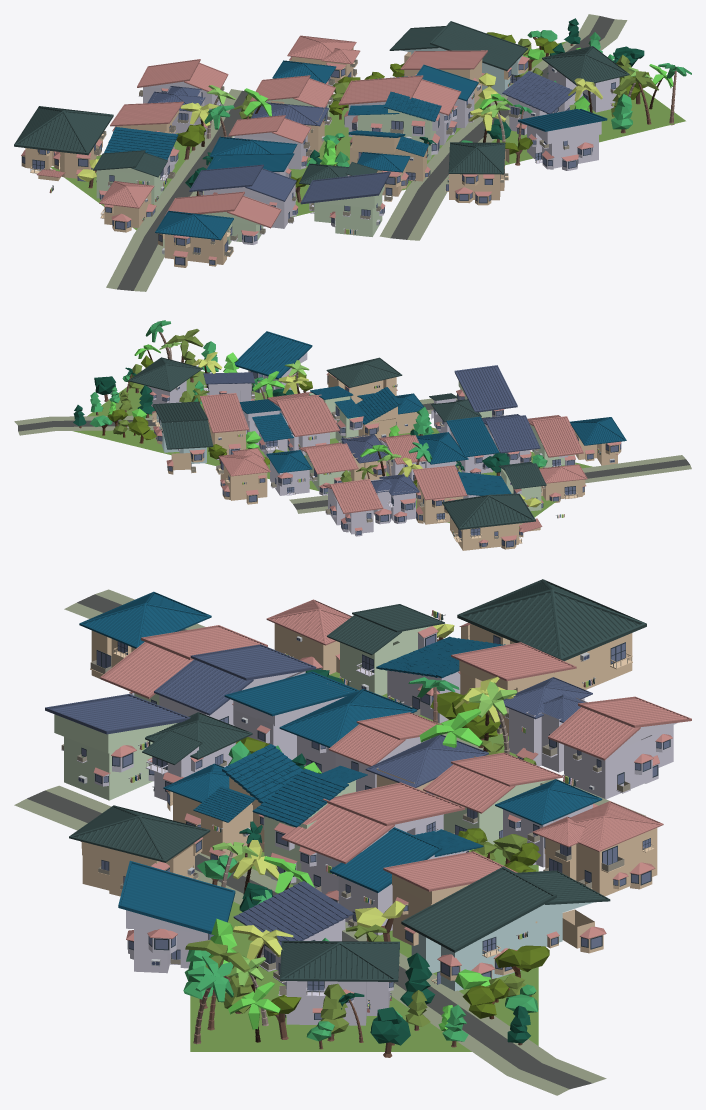
The model's file is QC_Env2.fbx.
The picture shows the model from 3 angles, top to bottom: view 1: azimuth 30°, elevation 25°; view 2: azimuth 150°, elevation 25°; view 3: azimuth 270°, elevation 25°; orthographic projection. The views are drawn at different scales.
Visible parts, largest first — view 1: QC_Env2; view 2: QC_Env2; view 3: QC_Env2.
Part boxes in pixels (x1,y1,x2,y2): QC_Env2: (14,14,691,291); QC_Env2: (14,320,691,550); QC_Env2: (14,579,691,1095).
Bounding box in the file's own units: 10146 × 867 × 5741.
